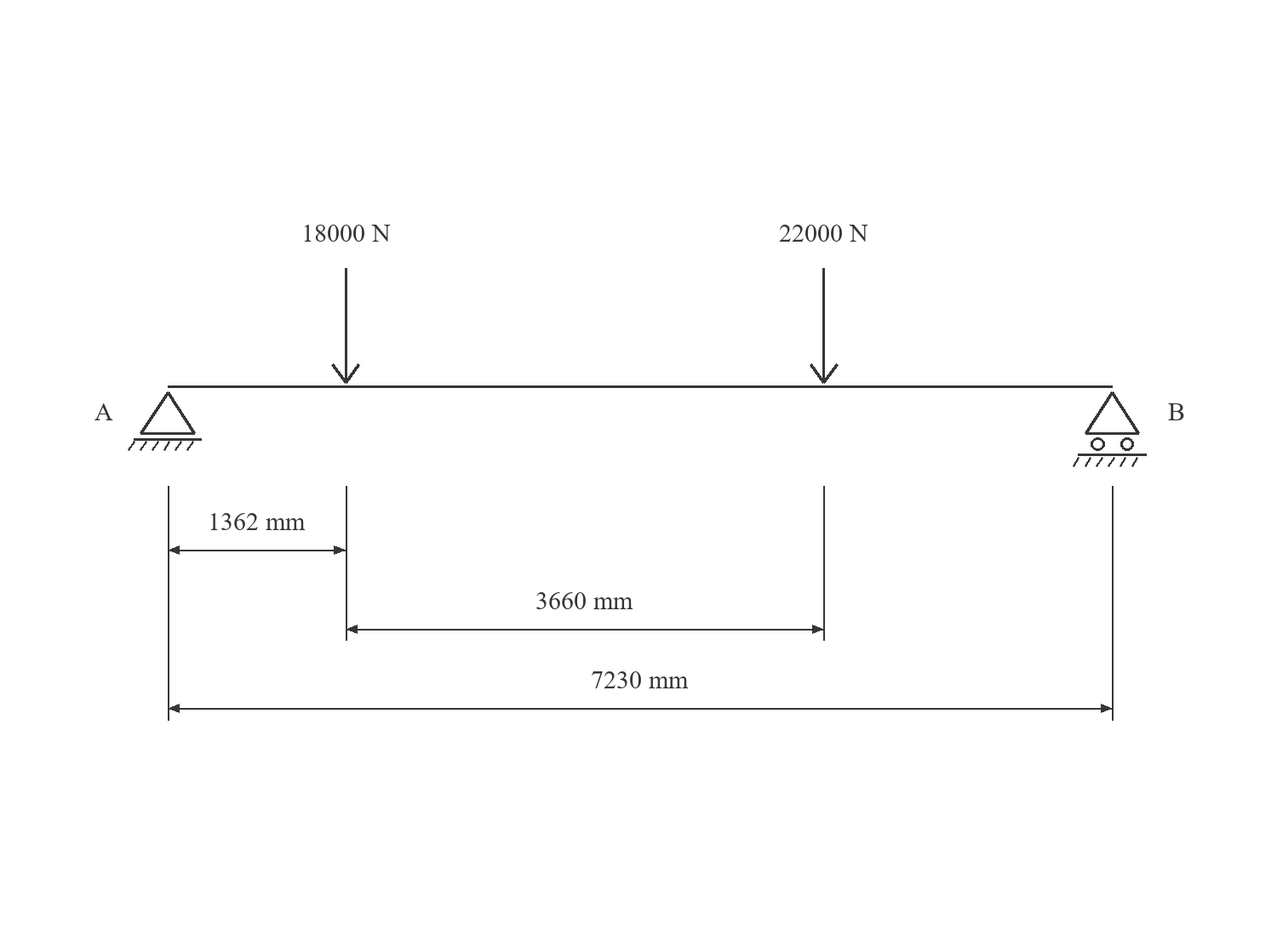pin_support: (128, 391, 202, 451)
point_load: (331, 268, 360, 384), (810, 268, 839, 384)
roller_support: (1073, 391, 1147, 467)
